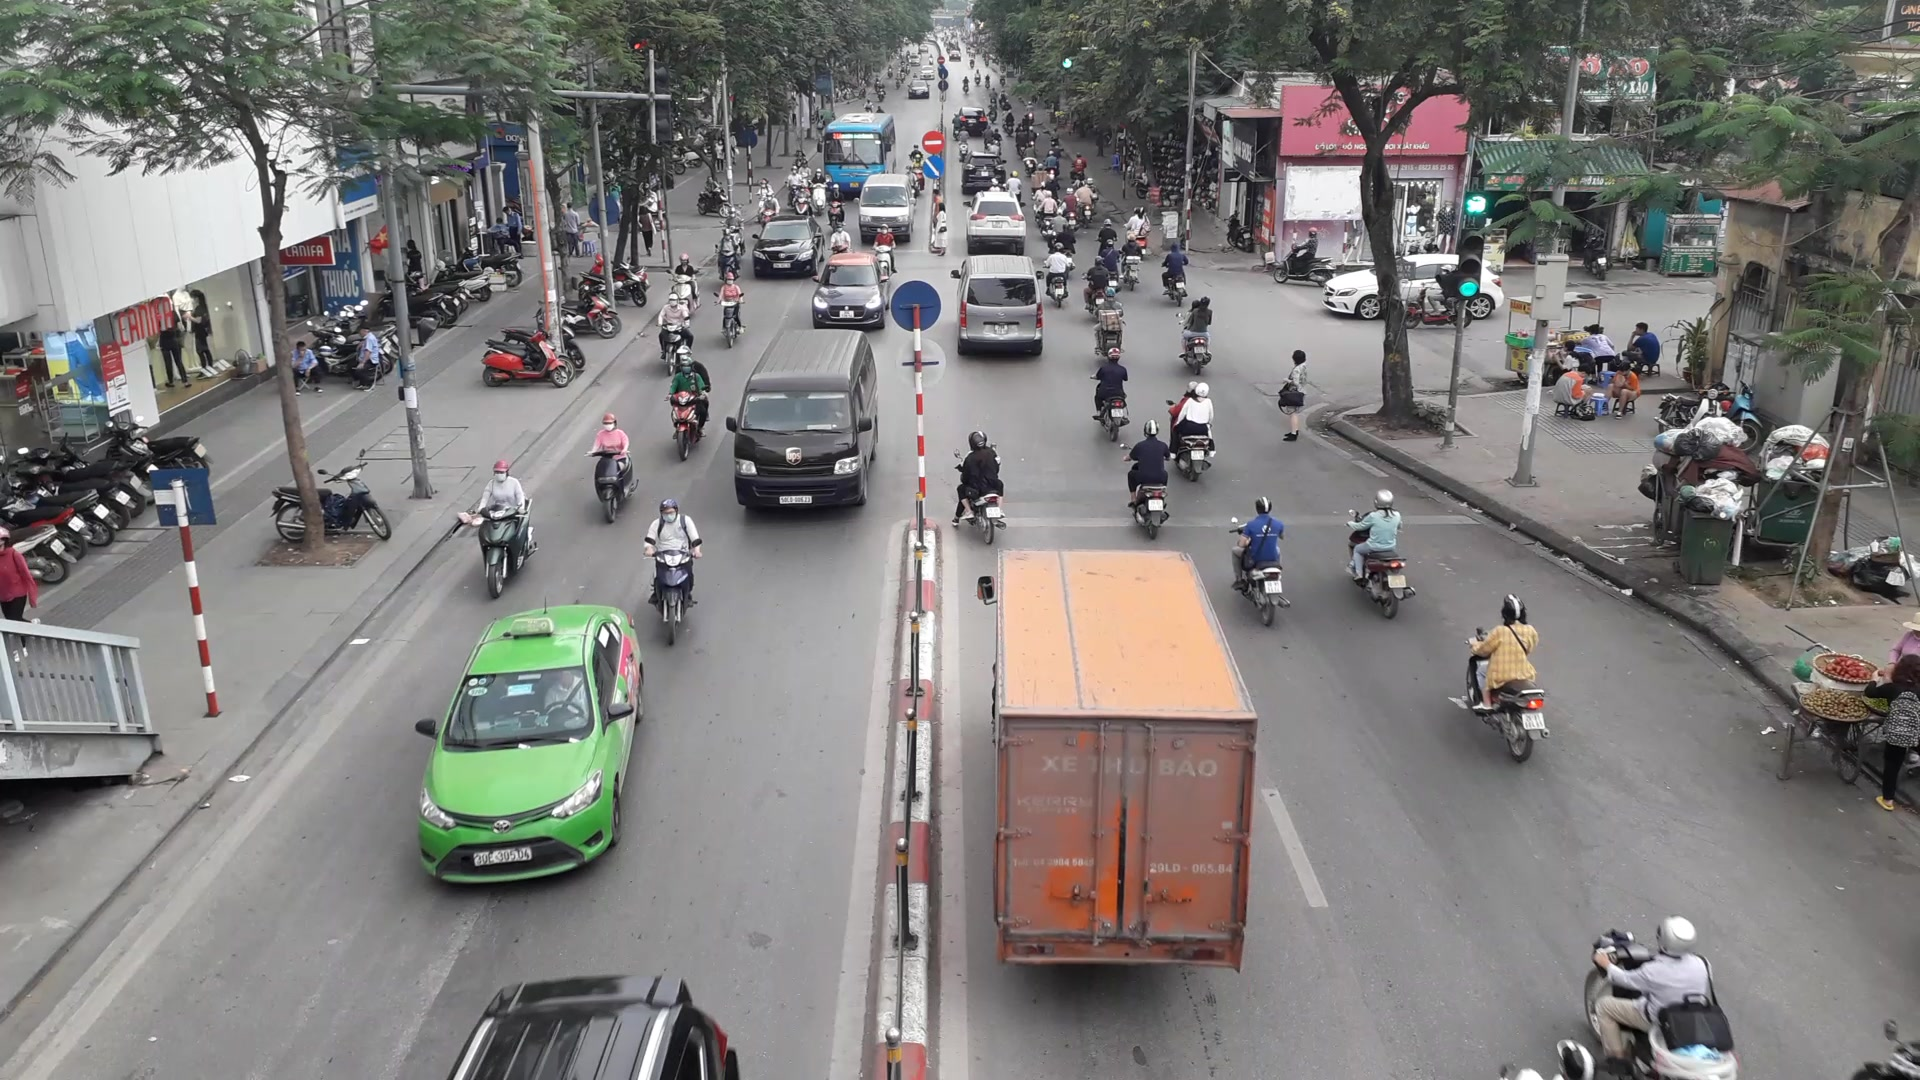bus: (818, 112, 897, 199)
car: (415, 605, 645, 882), (727, 328, 880, 506), (1323, 255, 1505, 320), (949, 255, 1044, 356), (812, 252, 889, 330), (752, 216, 825, 276), (853, 174, 916, 243), (963, 190, 1027, 255), (957, 150, 1007, 191)
motor: (1582, 915, 1741, 1080), (1466, 593, 1549, 764), (1344, 488, 1416, 620), (469, 458, 535, 599), (642, 498, 703, 646), (1228, 496, 1292, 628), (952, 431, 1007, 545), (584, 413, 640, 524), (1120, 419, 1170, 539), (1164, 381, 1216, 483), (665, 356, 711, 462), (1273, 227, 1336, 287), (1091, 347, 1130, 442), (655, 293, 694, 376), (1175, 299, 1212, 375), (713, 272, 746, 349), (1093, 287, 1125, 359), (666, 253, 702, 315), (1042, 243, 1073, 309), (1081, 255, 1112, 322), (1160, 243, 1189, 307), (713, 228, 742, 284), (1118, 232, 1145, 291), (1124, 206, 1151, 261), (872, 223, 898, 278), (719, 207, 746, 257), (1054, 223, 1077, 278), (1100, 239, 1120, 293), (825, 183, 847, 233), (1058, 187, 1080, 233), (1036, 190, 1058, 239), (1075, 179, 1095, 229), (808, 167, 828, 216), (785, 165, 804, 210), (1048, 208, 1068, 253), (1095, 218, 1117, 256), (754, 179, 774, 222), (828, 222, 852, 255), (793, 185, 816, 218), (760, 193, 781, 228), (911, 154, 926, 195)
truck: (977, 546, 1258, 975)
